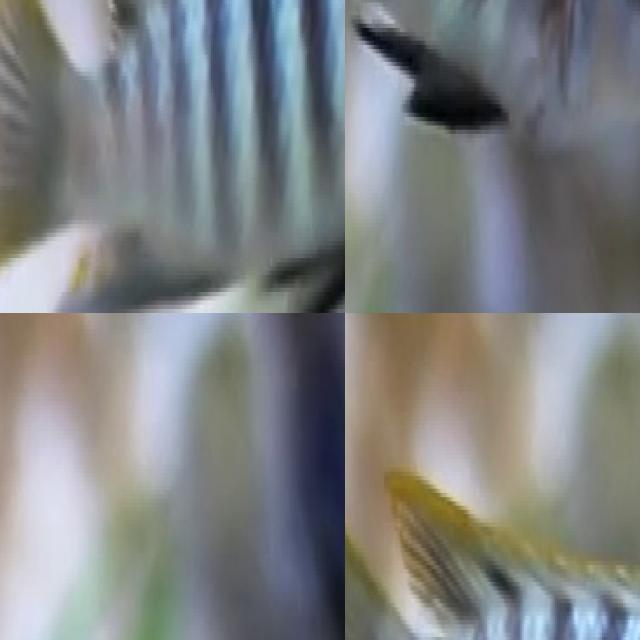fish: (0, 0, 345, 313), (345, 442, 640, 640)
